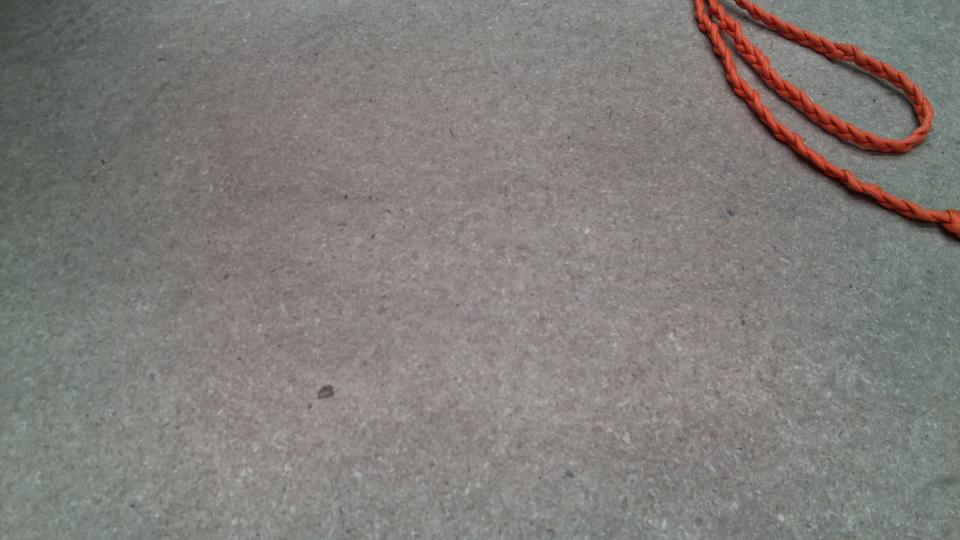rope: (697, 1, 960, 227)
